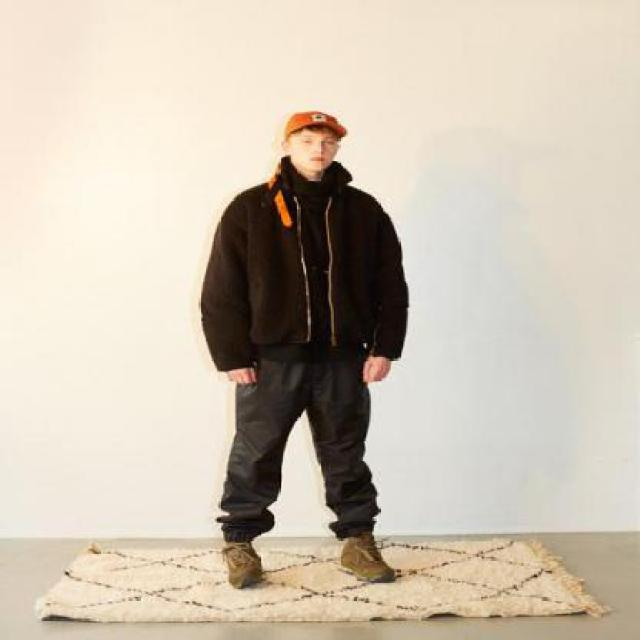Person: (168, 81, 467, 628)
